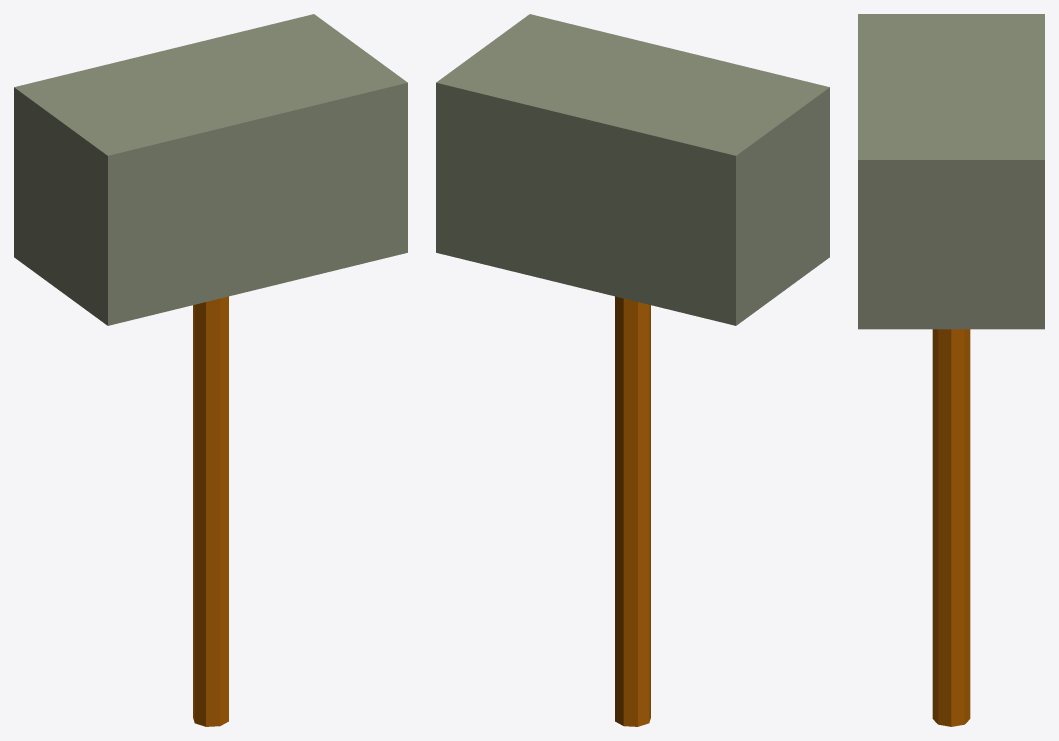
The model's file is hammer.fbx.
The picture shows the model from 3 angles, left to right: view 1: azimuth 30°, elevation 25°; view 2: azimuth 150°, elevation 25°; view 3: azimuth 270°, elevation 25°; orthographic projection.
Parts seen in each view (by area): view 1: Cube; view 2: Cube; view 3: Cube.
Boxes of the visible parts, x1=… form: Cube: x1=14, y1=14, x2=407, y2=726; Cube: x1=436, y1=14, x2=829, y2=726; Cube: x1=858, y1=14, x2=1044, y2=726.
Size of the model in its own units: 92.33 by 186 by 50.
